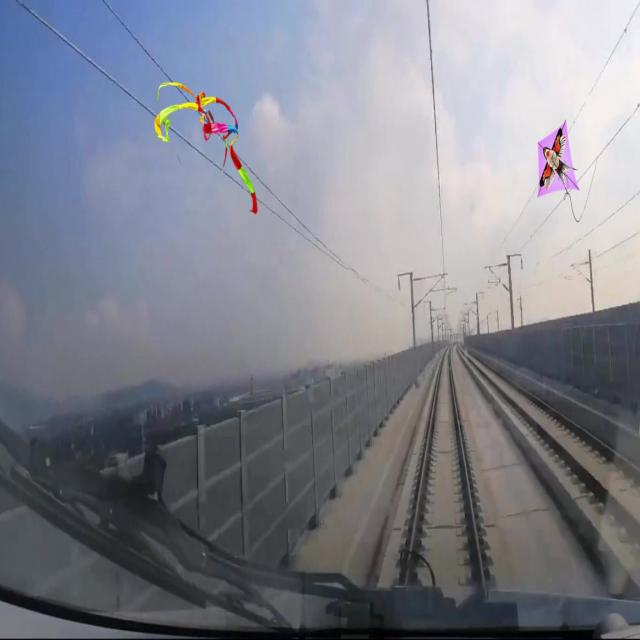floating object: (152, 79, 257, 216), (534, 125, 577, 194)
